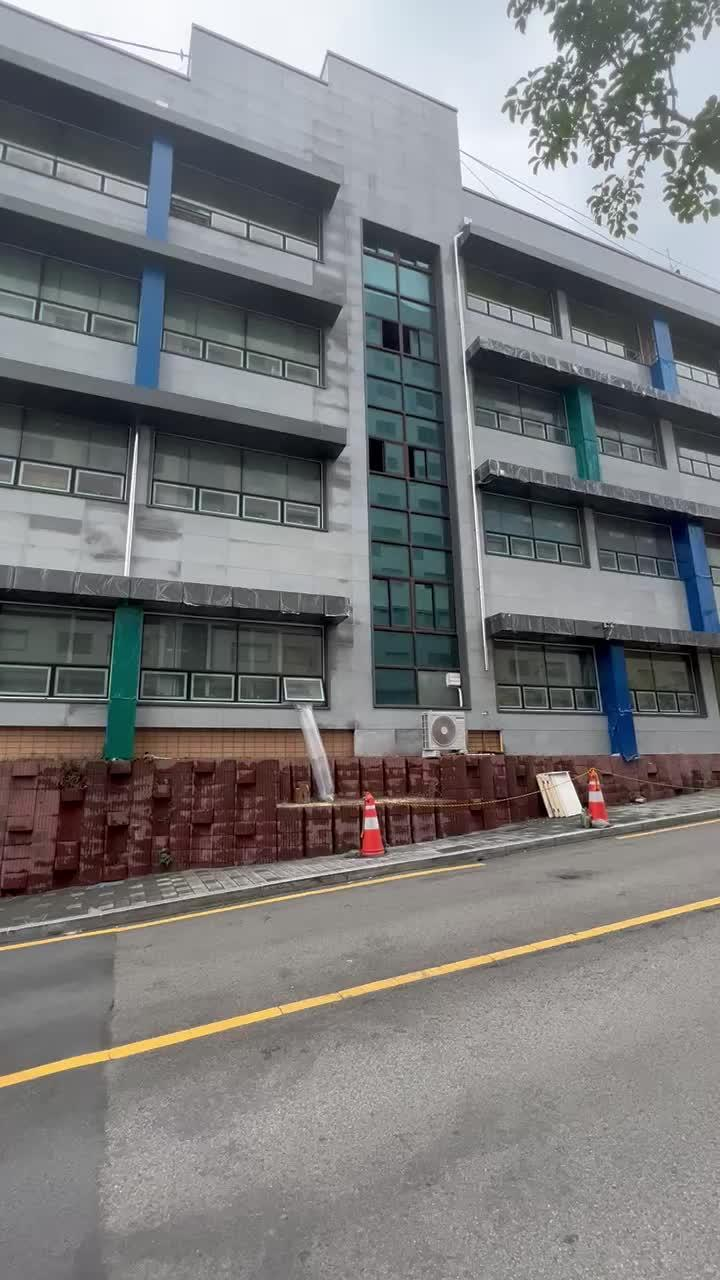building: (26, 62, 720, 786)
